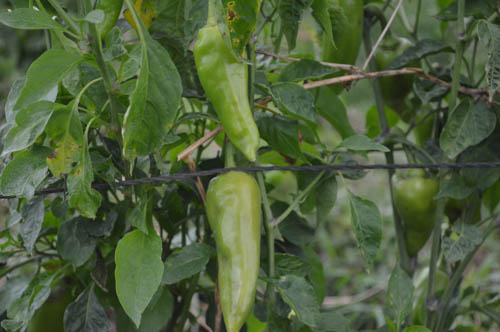ChiliPepper: (204, 172, 260, 327), (196, 29, 258, 161), (388, 171, 442, 256)
